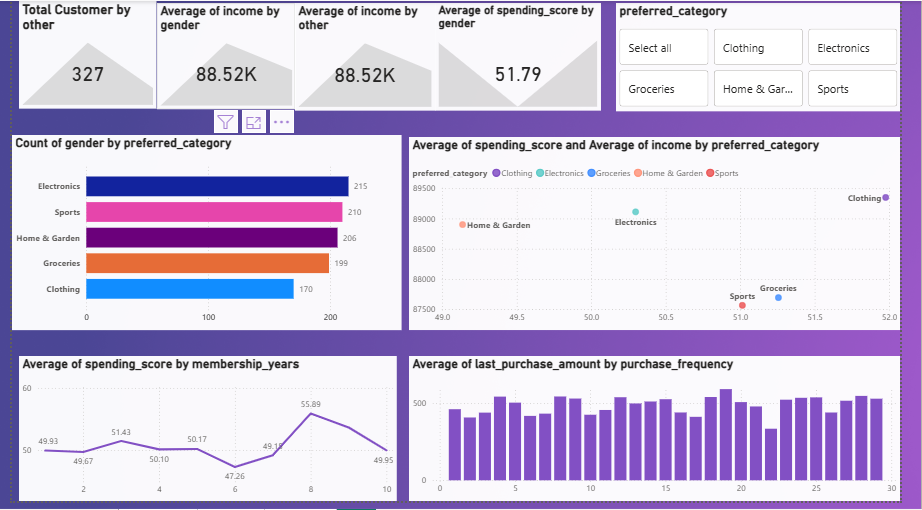

The page's visual inventory and layout, read from the dashboard file:
{"tool":"powerbi","page":{"name":" Other","canvas":[1280,720],"ordinal":2},"visuals":[{"type":"kpi","fields":{"Indicator":["CountNonNull(customer_segmentation_data.id)"],"TrendLine":["customer_segmentation_data.gender"]},"box":[10.1,0,198.2,154.5],"z":0},{"type":"kpi","fields":{"TrendLine":["customer_segmentation_data.gender"],"Indicator":["Avg(customer_segmentation_data.income)"]},"box":[208.3,3.4,199.9,152.9],"z":1000},{"type":"kpi","fields":{"Indicator":["Avg(customer_segmentation_data.income)"],"TrendLine":["customer_segmentation_data.gender"]},"box":[408.2,3.4,201.6,154.5],"z":2000},{"type":"kpi","fields":{"Indicator":["Avg(customer_segmentation_data.spending_score)"],"TrendLine":["customer_segmentation_data.gender"]},"box":[609.8,3.4,238.5,154.5],"z":3000},{"type":"barChart","fields":{"Category":["customer_segmentation_data.preferred_category"],"Y":["CountNonNull(customer_segmentation_data.gender)"]},"box":[0,193,561,280.5],"z":4000},{"type":"scatterChart","fields":{"X":["Avg(customer_segmentation_data.spending_score)"],"Y":["Avg(customer_segmentation_data.income)"],"Series":["customer_segmentation_data.preferred_category"]},"box":[571.7,195.8,708.5,277.9],"z":5000},{"type":"lineChart","fields":{"Category":["customer_segmentation_data.membership_years"],"Y":["Avg(customer_segmentation_data.spending_score)"]},"box":[10.1,510.7,544.3,210],"z":6000},{"type":"columnChart","fields":{"Y":["Avg(customer_segmentation_data.last_purchase_amount)"],"Category":["customer_segmentation_data.purchase_frequency"]},"box":[571,511,709,209],"z":7000},{"type":"advancedSlicerVisual","fields":{"Values":["customer_segmentation_data.preferred_category"]},"box":[869.8,2.9,410.4,155.5],"z":8000}]}

Visuals, with their boxes in screenshot pixels (x1, y1, x2, y2), scaled from the page's 1280x720 canvas onto the 922x510 screenshot:
kpi - CountNonNull(customer_segmentation_data.id) x customer_segmentation_data.gender: x1=7, y1=0, x2=150, y2=109
kpi - customer_segmentation_data.gender x Avg(customer_segmentation_data.income): x1=150, y1=2, x2=294, y2=111
kpi - Avg(customer_segmentation_data.income) x customer_segmentation_data.gender: x1=294, y1=2, x2=439, y2=112
kpi - Avg(customer_segmentation_data.spending_score) x customer_segmentation_data.gender: x1=439, y1=2, x2=611, y2=112
barChart - customer_segmentation_data.preferred_category x CountNonNull(customer_segmentation_data.gender): x1=0, y1=137, x2=404, y2=335
scatterChart - Avg(customer_segmentation_data.spending_score) x Avg(customer_segmentation_data.income): x1=412, y1=139, x2=921, y2=336
lineChart - customer_segmentation_data.membership_years x Avg(customer_segmentation_data.spending_score): x1=7, y1=362, x2=399, y2=509
columnChart - Avg(customer_segmentation_data.last_purchase_amount) x customer_segmentation_data.purchase_frequency: x1=411, y1=362, x2=921, y2=509
advancedSlicerVisual - customer_segmentation_data.preferred_category: x1=627, y1=2, x2=921, y2=112
